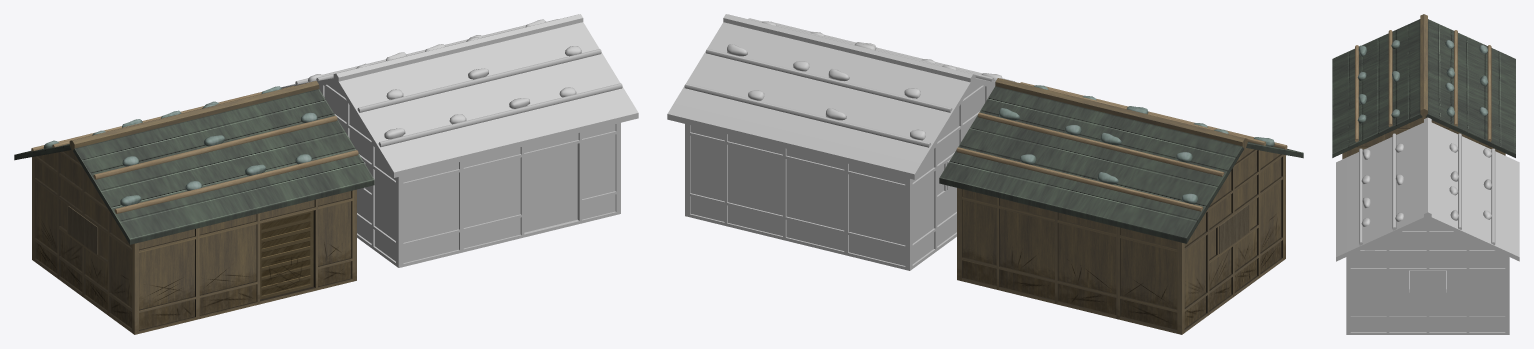
Rendered from BgMD_Akimoto_House_1_01.fbx.
The picture shows the model from 3 angles, left to right: view 1: azimuth 30°, elevation 25°; view 2: azimuth 150°, elevation 25°; view 3: azimuth 270°, elevation 25°; orthographic projection. The views are drawn at different scales.
Parts seen in each view (by area): view 1: BgMD_Akimoto_House_1_01, BgMD_Akimoto_House_1_02; view 2: BgMD_Akimoto_House_1_01, BgMD_Akimoto_House_1_02; view 3: BgMD_Akimoto_House_1_02, BgMD_Akimoto_House_1_01.
Boxes of the visible parts, left/top/right/bottom form: BgMD_Akimoto_House_1_01: left=14, top=81, right=374, bottom=334; BgMD_Akimoto_House_1_02: left=281, top=14, right=638, bottom=267; BgMD_Akimoto_House_1_01: left=939, top=78, right=1303, bottom=334; BgMD_Akimoto_House_1_02: left=667, top=14, right=1014, bottom=270; BgMD_Akimoto_House_1_02: left=1336, top=117, right=1519, bottom=334; BgMD_Akimoto_House_1_01: left=1332, top=14, right=1515, bottom=159.
Size of the model in its own units: 1149 by 343 by 460.
